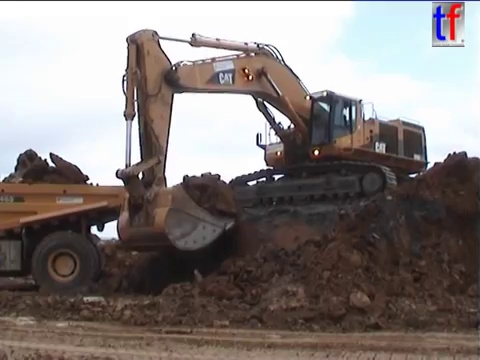excavator: (112, 25, 434, 255)
truck: (1, 178, 166, 300)
